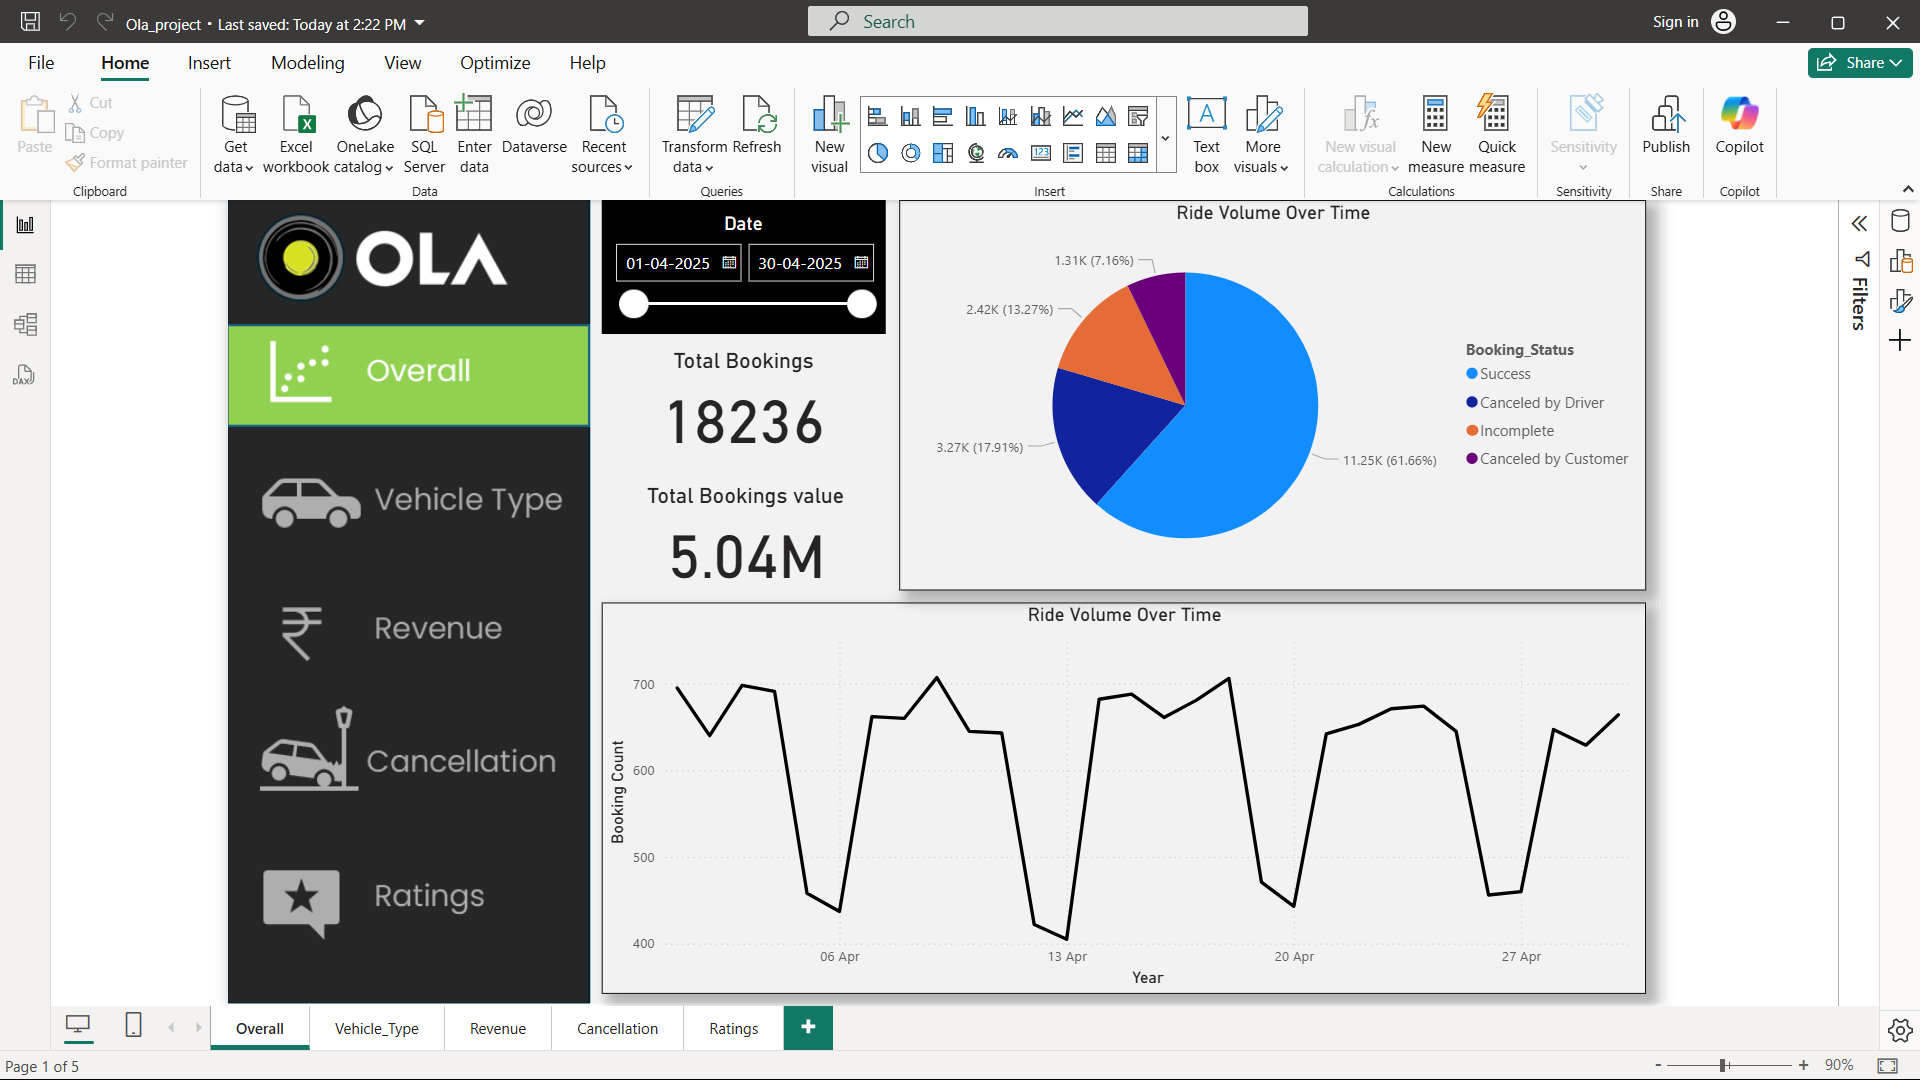

The dashboard page shown, as its layout file describes it:
{"tool":"powerbi","page":{"name":"Overall","canvas":[1280,720],"ordinal":0},"visuals":[{"type":"actionButton","box":[0,110.9,324.3,91],"z":0},{"type":"actionButton","box":[0,219,324.3,103.8],"z":1000},{"type":"actionButton","box":[0,322.8,324.3,103.8],"z":2000},{"type":"actionButton","box":[0,426.7,324.3,128],"z":3000},{"type":"actionButton","box":[0,554.7,324.3,165],"z":4000},{"type":"lineChart","title":"Ride Volume Over Time","fields":{"Y":["CountNonNull(ahmedabad_booking_data.Booking_ID)"],"Category":["ahmedabad_booking_data.Date.Variation.Date Hierarchy.Year","ahmedabad_booking_data.Date.Variation.Date Hierarchy.Quarter","ahmedabad_booking_data.Date.Variation.Date Hierarchy.Month","ahmedabad_booking_data.Date.Variation.Date Hierarchy.Day"]},"box":[334.2,359.5,932.6,349.9],"z":5000},{"type":"pieChart","title":"Ride Volume Over Time","fields":{"Y":["CountNonNull(ahmedabad_booking_data.Booking_ID)"],"Category":["ahmedabad_booking_data.Booking_Status"]},"box":[599.6,0,667.2,348.7],"z":6000},{"type":"slicer","title":"Date","fields":{"Values":["ahmedabad_booking_data.Date"]},"box":[334.2,0,253.4,119.4],"z":7000},{"type":"card","title":"Total Bookings","fields":{"Values":["Count(ahmedabad_booking_data.Booking_ID)"]},"box":[334.2,126.7,253.4,102.5],"z":8000},{"type":"card","title":"Total Bookings value","fields":{"Values":["Sum(ahmedabad_booking_data.Booking_Value)"]},"box":[336.2,246.7,252.5,102.4],"z":9000}]}

Visuals, with their boxes on the page's 1280x720 design canvas (x1, y1, x2, y2). These are canvas units, not pixel positions in the 1920x1080 screenshot, which may show the page scaled, cropped or inside an application window:
actionButton: {"x1": 0, "y1": 111, "x2": 324, "y2": 202}
actionButton: {"x1": 0, "y1": 219, "x2": 324, "y2": 323}
actionButton: {"x1": 0, "y1": 323, "x2": 324, "y2": 427}
actionButton: {"x1": 0, "y1": 427, "x2": 324, "y2": 555}
actionButton: {"x1": 0, "y1": 555, "x2": 324, "y2": 720}
"Ride Volume Over Time" lineChart: {"x1": 334, "y1": 360, "x2": 1267, "y2": 709}
"Ride Volume Over Time" pieChart: {"x1": 600, "y1": 0, "x2": 1267, "y2": 349}
"Date" slicer: {"x1": 334, "y1": 0, "x2": 588, "y2": 119}
"Total Bookings" card: {"x1": 334, "y1": 127, "x2": 588, "y2": 229}
"Total Bookings value" card: {"x1": 336, "y1": 247, "x2": 589, "y2": 349}
